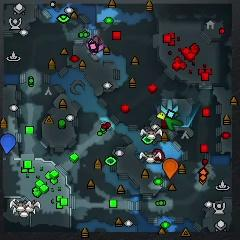p1: (0, 132, 17, 155)
p4: (156, 111, 167, 121)
p5: (162, 157, 179, 180)
x1: (85, 35, 104, 55)
x3: (160, 98, 180, 116)
x4: (164, 115, 183, 130)
